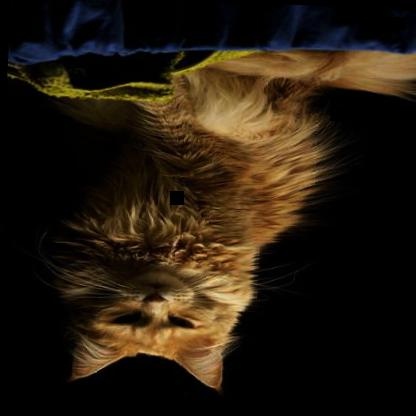cat: (45, 33, 415, 400)
